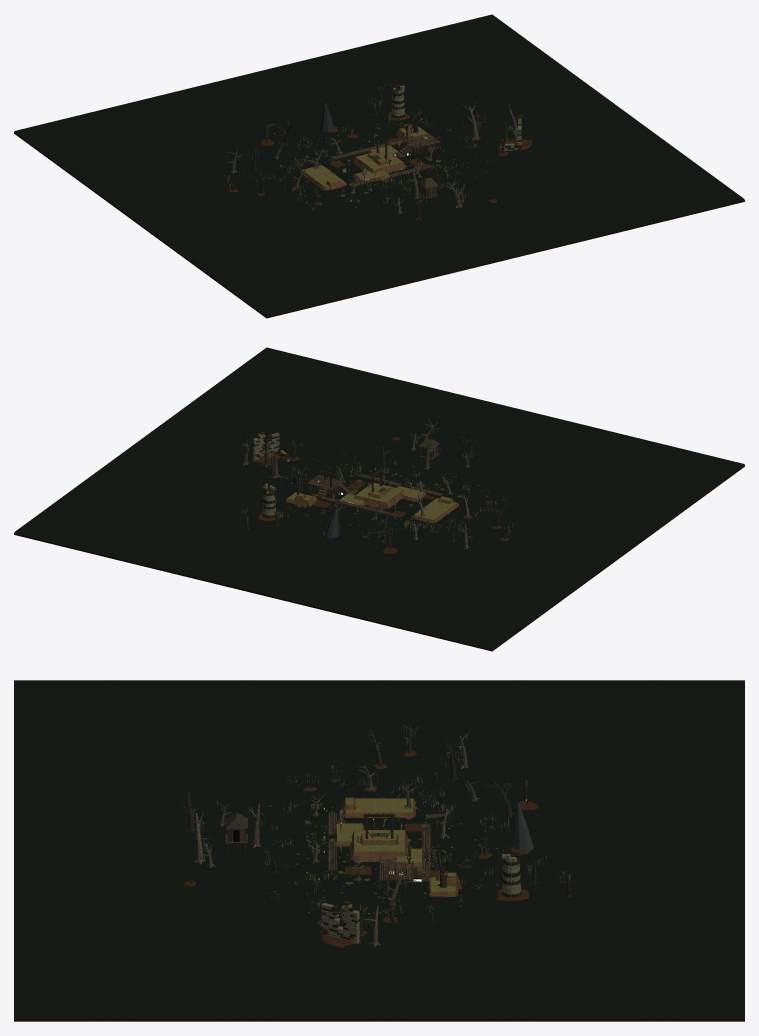
Rendered from hangmans_fen.glb.
3 views of the same model, one above another, from view 1: azimuth 30°, elevation 25°; view 2: azimuth 150°, elevation 25°; view 3: azimuth 270°, elevation 25° (orthographic). The views are drawn at different scales.
Visible parts, largest first — view 1: FX_Water swamp, Outer bed, Far trees, Banks, Timber, Reeds, Boardwalks, Fen grass.002, Far ruins; view 2: FX_Water swamp, Outer bed, Far trees, Banks, Far ruins, Timber, Reeds, Boardwalks, Fen grass.002; view 3: FX_Water swamp, Far trees, Outer bed, Banks, Far ruins, Reeds, Fen grass.002, Boardwalks, Timber, Far roofs, Hanging moss, Dead trees (+2 smaller).
Part boxes in pixels (x1=…): FX_Water swamp: x1=14, y1=14, x2=744, y2=315; Outer bed: x1=14, y1=132, x2=744, y2=318; Far trees: x1=223, y1=80, x2=523, y2=220; Banks: x1=228, y1=123, x2=508, y2=205; Timber: x1=307, y1=123, x2=440, y2=188; Reeds: x1=267, y1=116, x2=493, y2=209; Boardwalks: x1=331, y1=133, x2=439, y2=186; Fen grass.002: x1=302, y1=127, x2=426, y2=186; Far ruins: x1=391, y1=84, x2=521, y2=150; FX_Water swamp: x1=14, y1=347, x2=744, y2=648; Outer bed: x1=14, y1=465, x2=744, y2=651; Far trees: x1=241, y1=417, x2=513, y2=549; Banks: x1=261, y1=436, x2=509, y2=540; Far ruins: x1=253, y1=431, x2=289, y2=518; Timber: x1=307, y1=468, x2=442, y2=527; Reeds: x1=275, y1=452, x2=508, y2=538; Boardwalks: x1=307, y1=474, x2=442, y2=515; Fen grass.002: x1=288, y1=486, x2=456, y2=519; FX_Water swamp: x1=14, y1=680, x2=744, y2=1017; Far trees: x1=180, y1=724, x2=576, y2=947; Outer bed: x1=14, y1=1018, x2=744, y2=1021; Banks: x1=184, y1=750, x2=492, y2=936; Far ruins: x1=320, y1=854, x2=521, y2=943; Reeds: x1=260, y1=774, x2=509, y2=914; Fen grass.002: x1=337, y1=798, x2=455, y2=891; Boardwalks: x1=328, y1=812, x2=430, y2=881; Timber: x1=323, y1=809, x2=445, y2=892; Far roofs: x1=225, y1=801, x2=533, y2=850; Hanging moss: x1=193, y1=725, x2=570, y2=926; Dead trees: x1=308, y1=780, x2=453, y2=887.
Size of the model in its own units: 94 by 8 by 86.
Materials: 35 (35 with a texture image).
